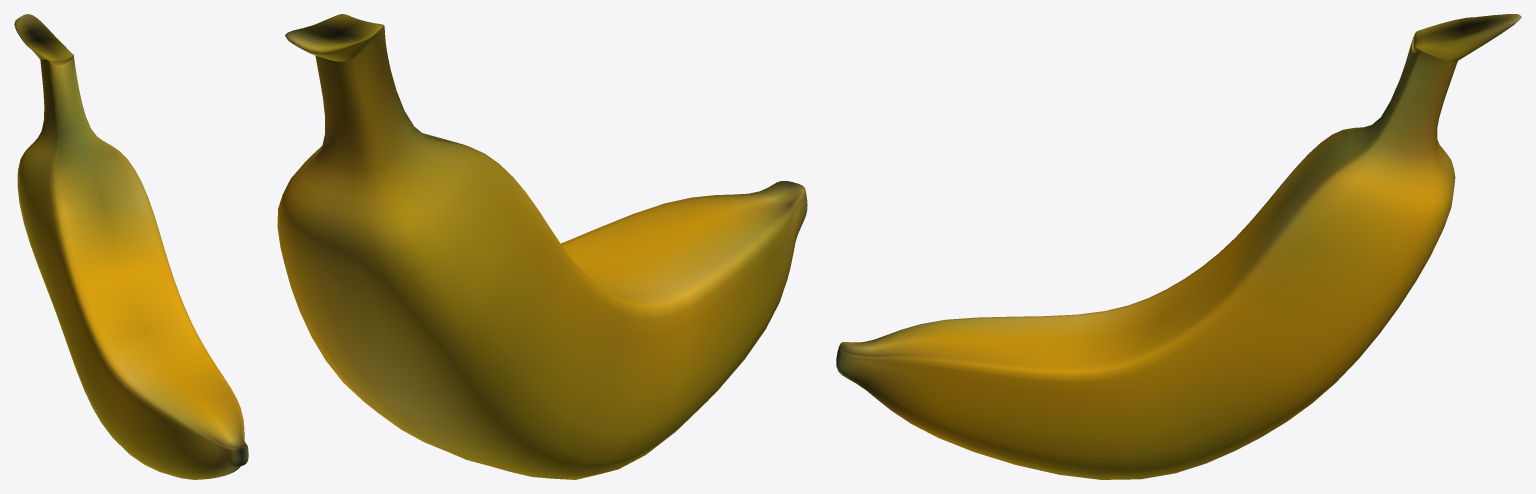
File: banana.fbx
3 views of the same model, side by side, from view 1: azimuth 30°, elevation 25°; view 2: azimuth 150°, elevation 25°; view 3: azimuth 270°, elevation 25° (orthographic). The views are drawn at different scales.
Parts seen in each view (by area): view 1: Cube; view 2: Cube; view 3: Cube.
Boxes of the visible parts, x1,y1,x2,y2 form: Cube: (14, 14, 248, 479); Cube: (277, 14, 807, 479); Cube: (836, 14, 1521, 479).
Size of the model in its own units: 232 by 669 by 903.
